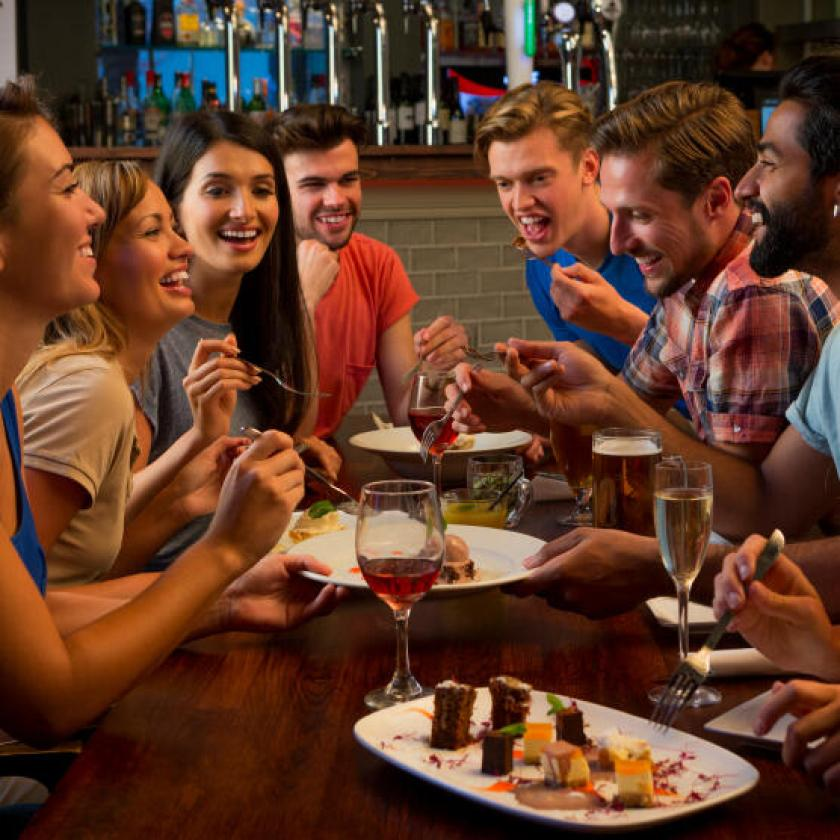Sin_casco: (603, 86, 730, 290), (0, 80, 100, 301), (739, 76, 840, 281), (165, 109, 289, 266), (86, 158, 203, 313), (475, 91, 588, 249), (289, 98, 378, 240)
